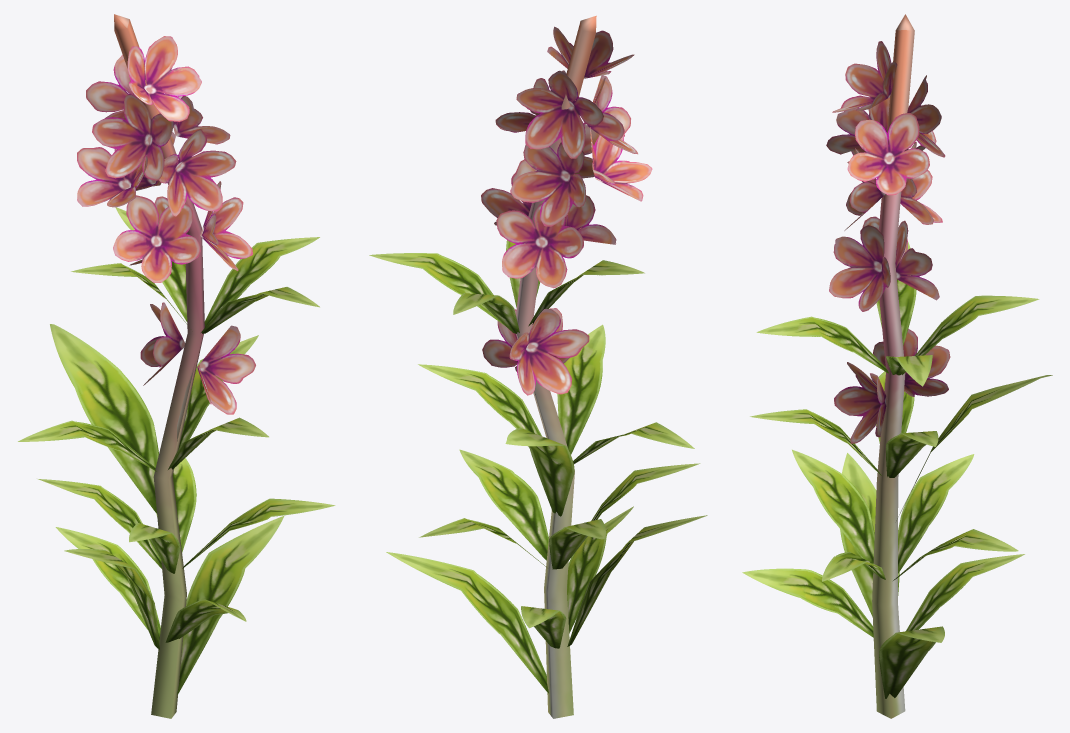
File: TallFlower.FBX
The picture shows the model from 3 angles, left to right: view 1: azimuth 30°, elevation 25°; view 2: azimuth 150°, elevation 25°; view 3: azimuth 270°, elevation 25°; orthographic projection. The views are drawn at different scales.
Parts seen in each view (by area): view 1: TallFlower; view 2: TallFlower; view 3: TallFlower.
Boxes of the visible parts, x1,y1,x2,y2 form: TallFlower: (18,14,335,718); TallFlower: (369,15,707,718); TallFlower: (742,14,1052,718).
Bounding box in the file's own units: 140 × 299 × 126.
